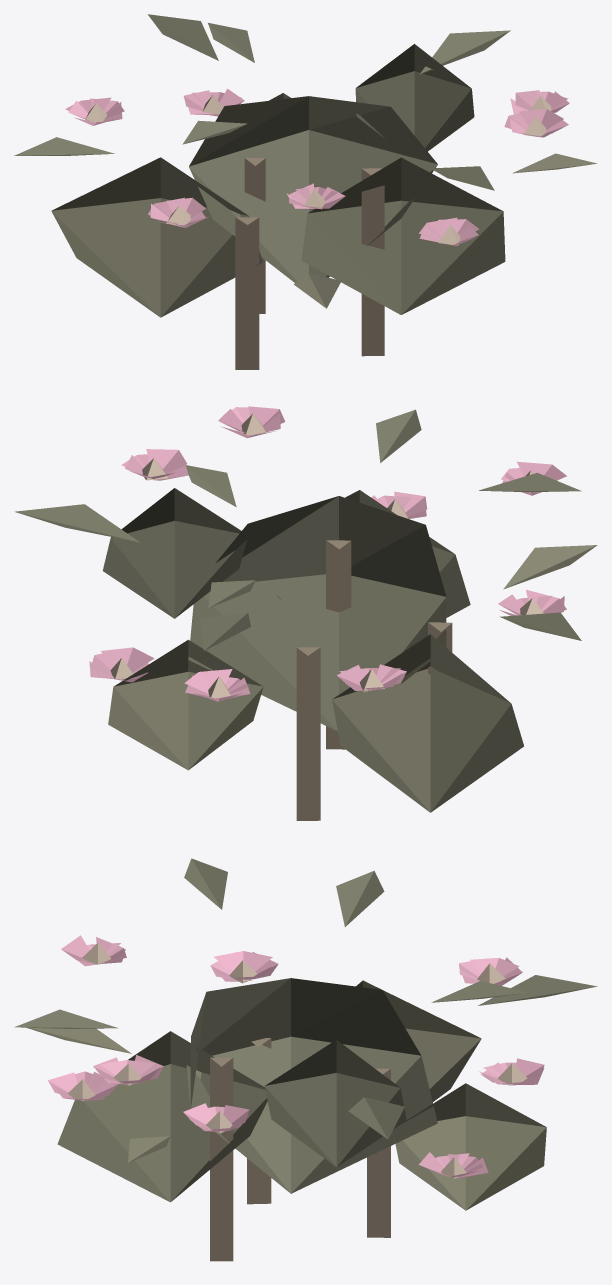
File: guan.dujuan__winter.glb
3 views of the same model, one above another, from view 1: azimuth 30°, elevation 25°; view 2: azimuth 150°, elevation 25°; view 3: azimuth 270°, elevation 25° (orthographic). The views are drawn at different scales.
Visible parts, largest first — view 1: guan.dujuan__winter; view 2: guan.dujuan__winter; view 3: guan.dujuan__winter.
Boxes of the visible parts, x1,y1,x2,y2 form: guan.dujuan__winter: (14, 14, 596, 369); guan.dujuan__winter: (14, 406, 597, 820); guan.dujuan__winter: (14, 858, 597, 1261).
Size of the model in its own units: 2.66 by 1.4 by 2.46.
